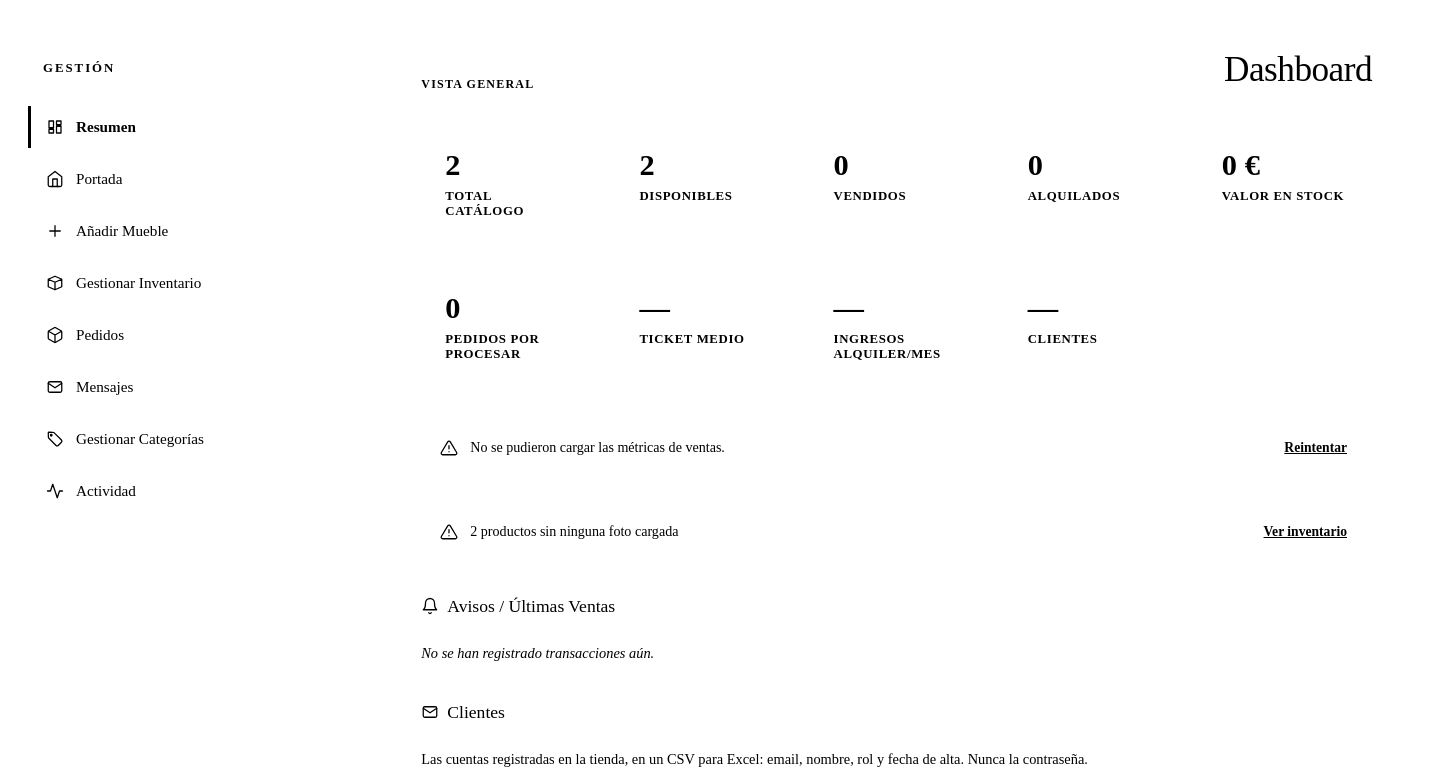
Test: Inventario — menú de acciones de la fila › Escape cierra el menú, devuelve el foco al botón y no cierra nada más
Click the button "Gestionar Inventario" at [185, 283], box [28,262,341,304]
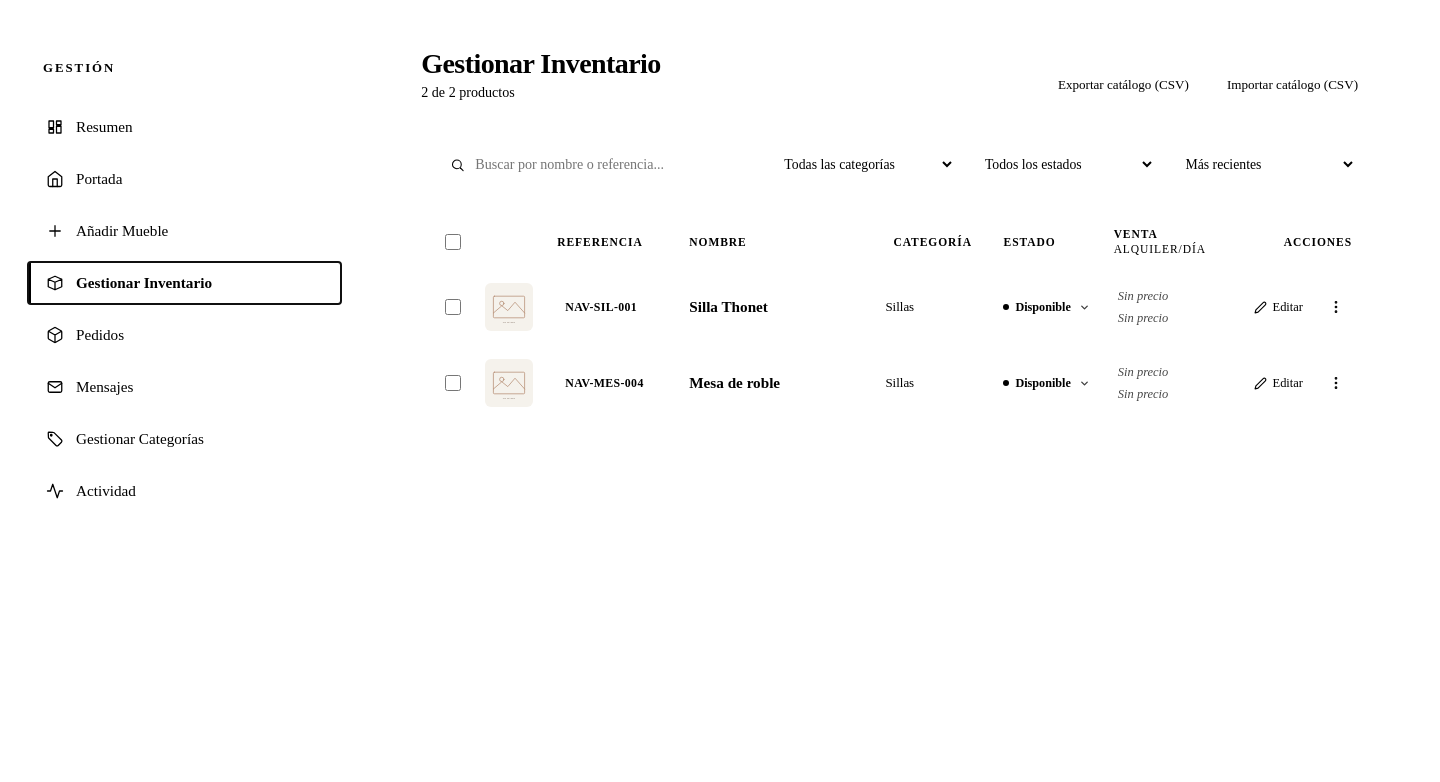
Click the button named "Más acciones de Silla Thonet" at [1336, 307], box [1320,293,1352,321]
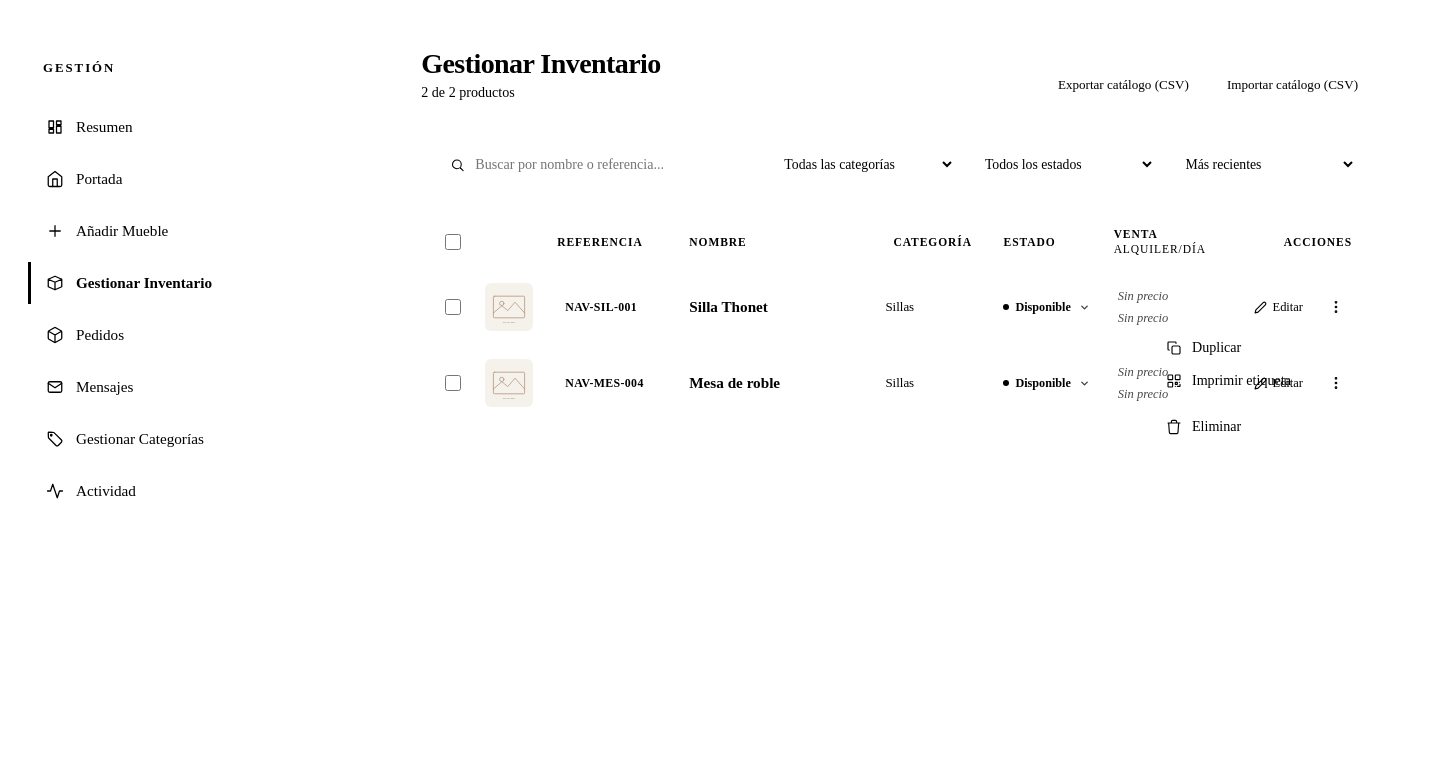
Press Escape
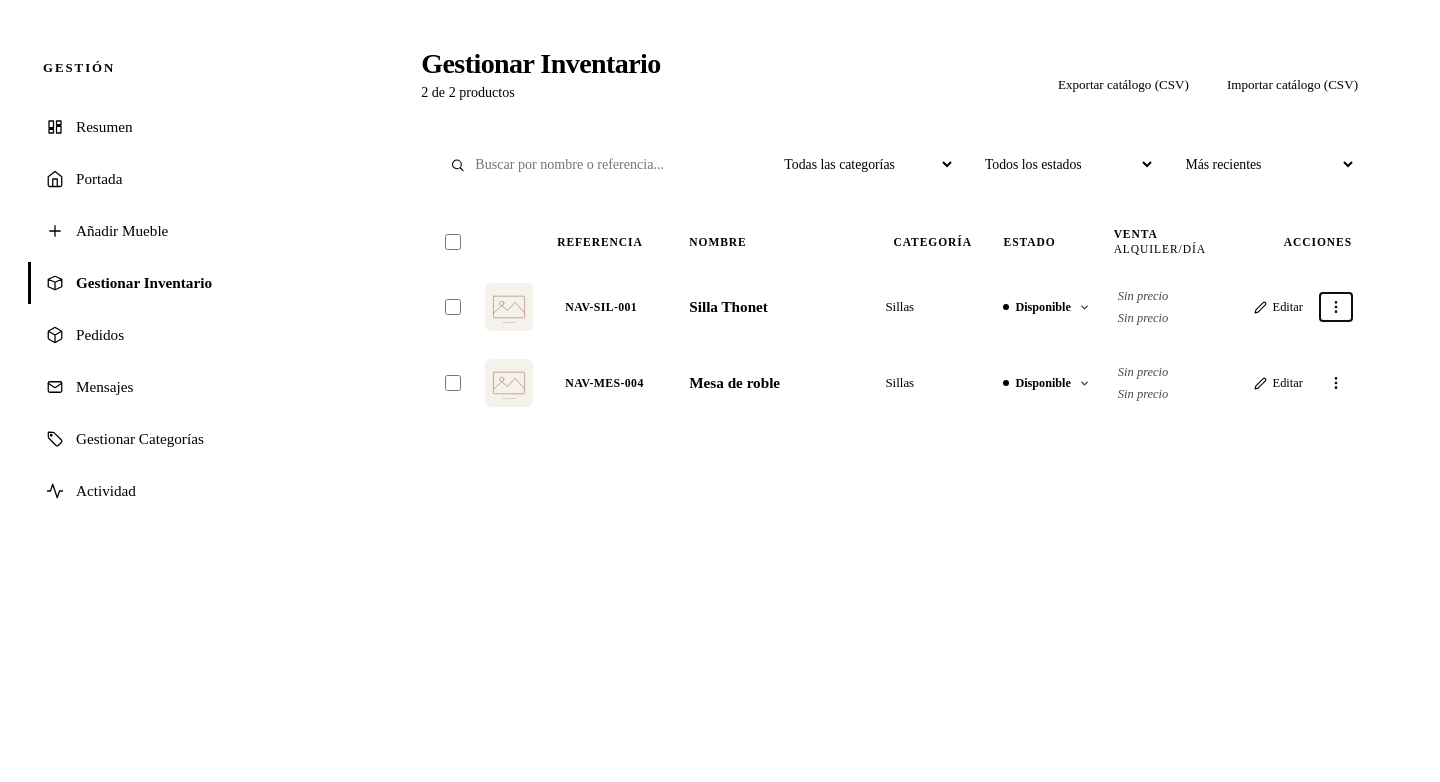
Expected: the menu is gone
